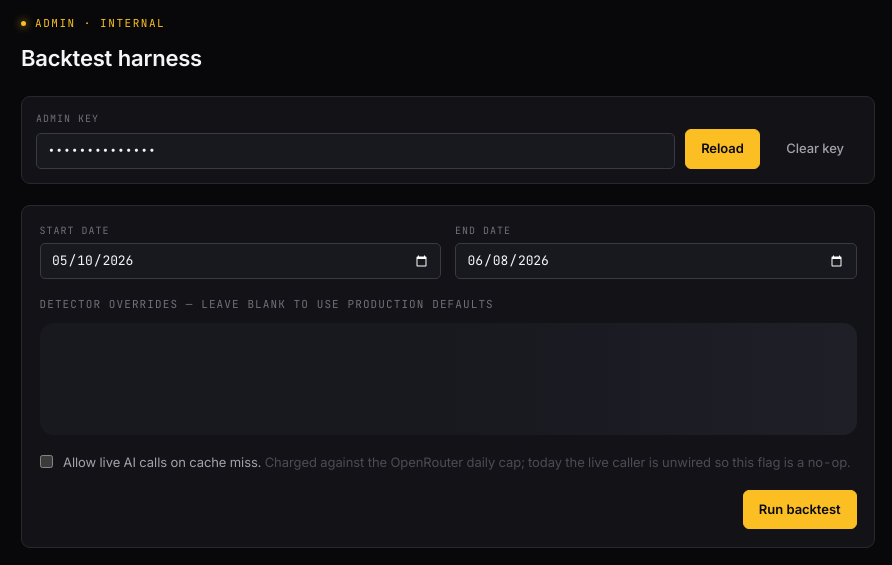
Test: BacktestPage clear key flow › returns to the locked state when the key is cleared
Expected: the heading "Detector overrides — leave blank to use production defaults" is shown, [40,297,494,311]
Click the button "Clear key" at {"x": 815, "y": 149}, box [770,129,860,168]
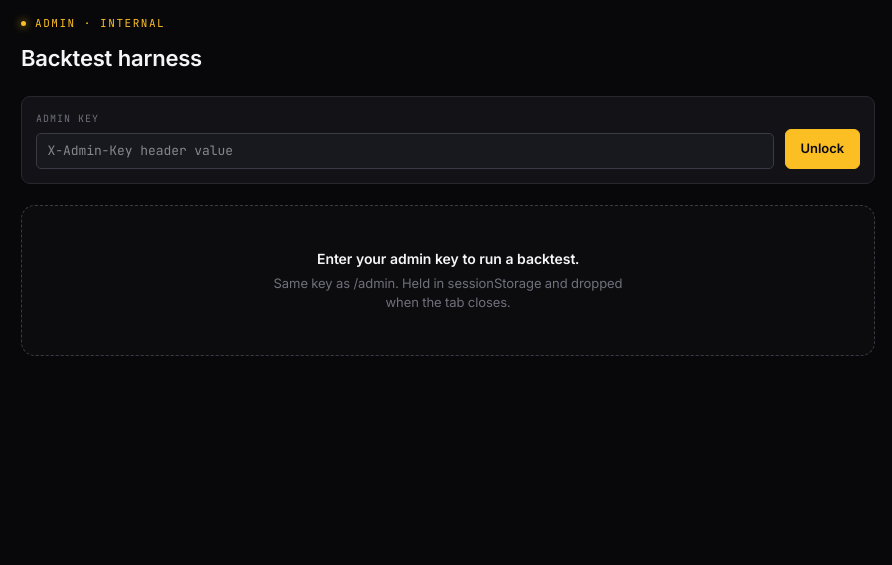
Now the text "Enter your admin key to run a backtest." is shown, box [317,250,579,266]
